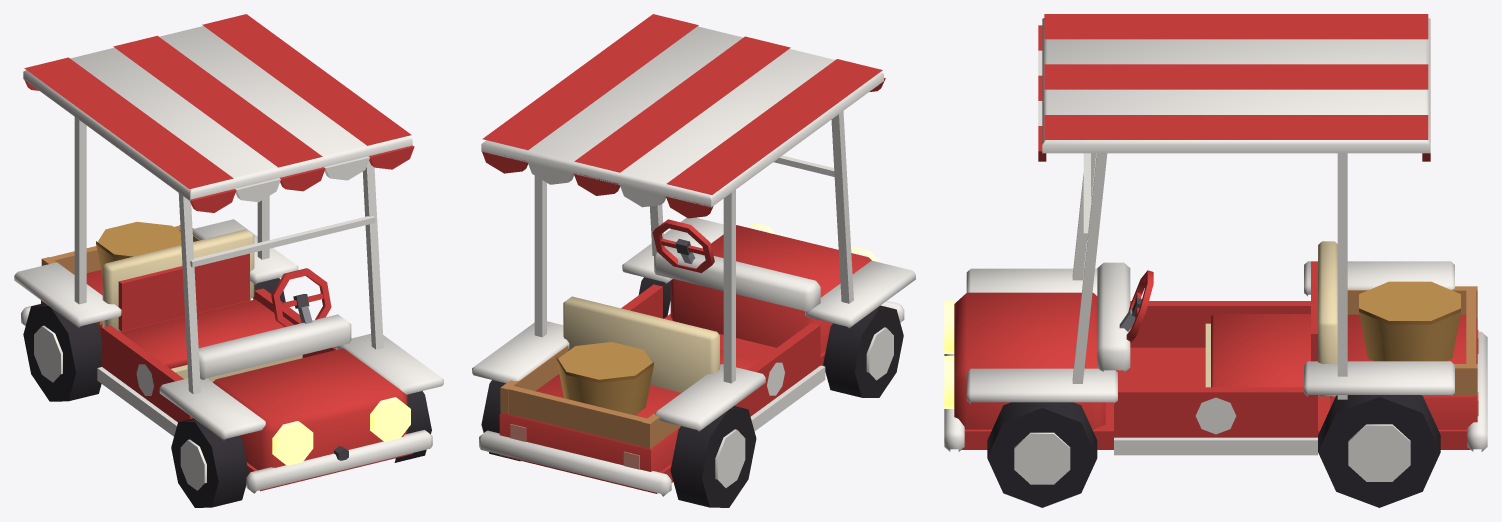
File: golf_cart.glb
The picture shows the model from 3 angles, left to right: view 1: azimuth 30°, elevation 25°; view 2: azimuth 150°, elevation 25°; view 3: azimuth 270°, elevation 25°; orthographic projection. The views are drawn at different scales.
Visible parts, largest first — view 1: golf_cart, wheel_rr, wheel_fr, steering_wheel, headlight_r, headlight_l, wheel_fl; view 2: golf_cart, wheel_rr, wheel_fr, steering_wheel, wheel_rl; view 3: golf_cart, wheel_rl, wheel_fl, steering_wheel.
Boxes of the visible parts, box(x1,y1,x2,y2) form: golf_cart: box(14, 14, 443, 493); wheel_rr: box(23, 303, 101, 401); wheel_fr: box(171, 418, 248, 507); steering_wheel: box(271, 268, 331, 326); headlight_r: box(272, 421, 313, 465); headlight_l: box(370, 397, 410, 441); wheel_fl: box(394, 391, 431, 462); golf_cart: box(472, 14, 915, 496); wheel_rr: box(670, 406, 756, 507); wheel_fr: box(823, 305, 903, 397); steering_wheel: box(652, 219, 714, 272); wheel_rl: box(481, 380, 520, 461); golf_cart: box(944, 14, 1487, 455); wheel_rl: box(1318, 395, 1440, 507); wheel_fl: box(987, 402, 1097, 507); steering_wheel: box(1126, 270, 1153, 343).
Bounding box in the file's own units: 1.46 × 2 × 2.66.
Materials: 2 (2 with a texture image).
